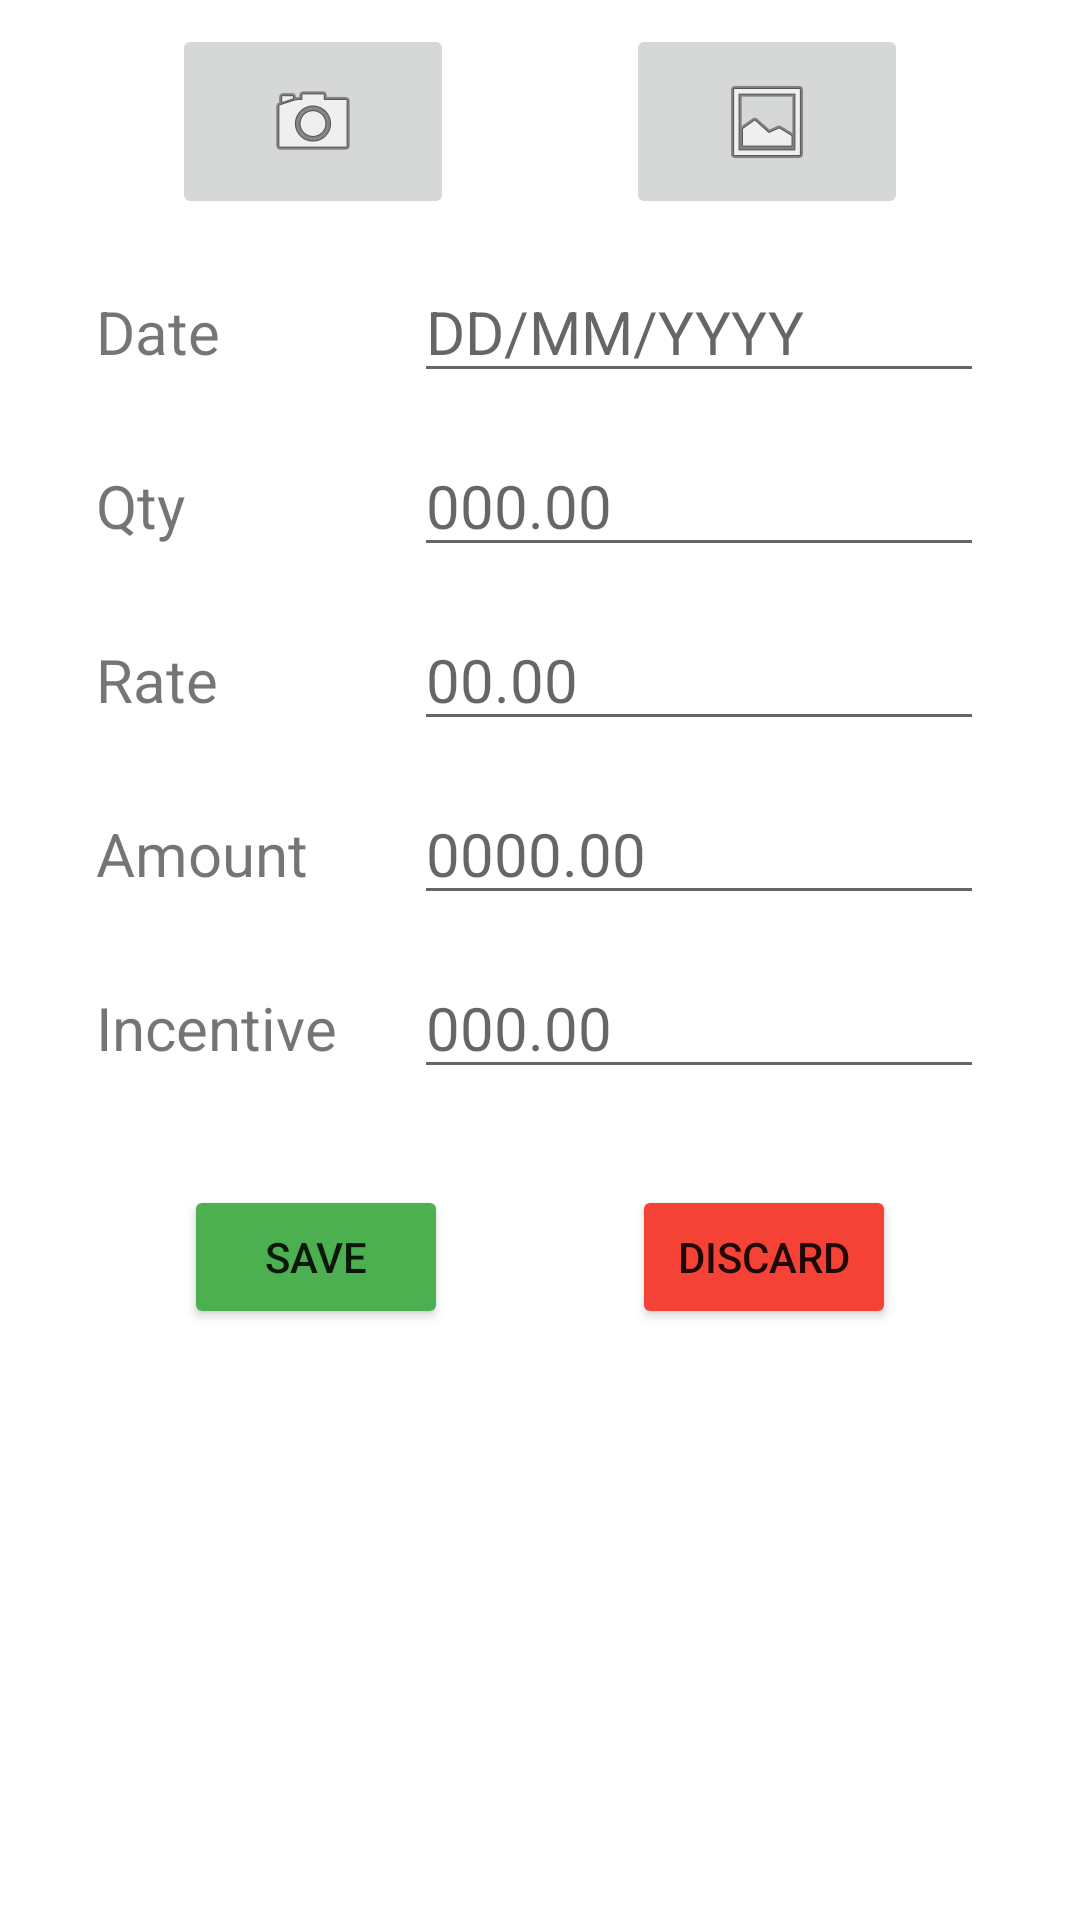

Screen size 1080×1920. Icon name, then its center in pixels as [x,y]:
camera: [313,121]
gallery: [767,121]
